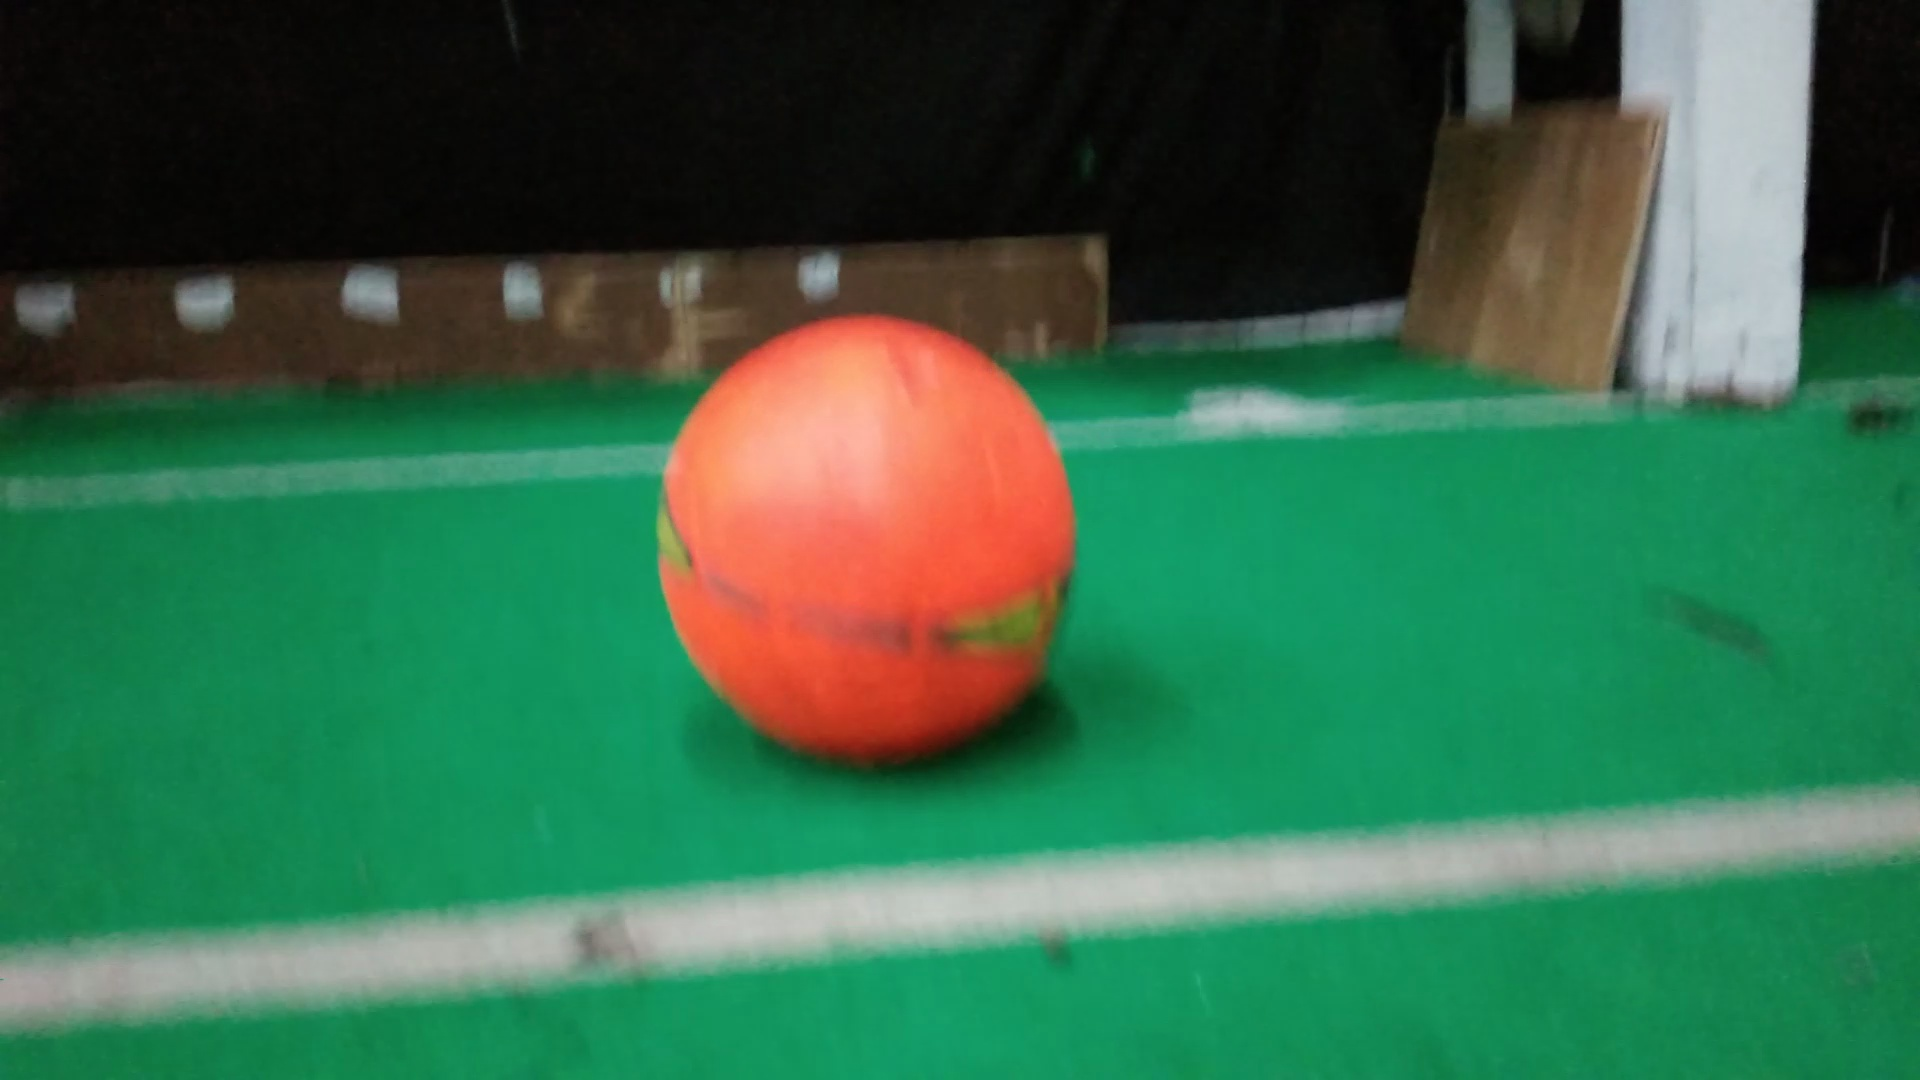bola: (647, 306, 1087, 785)
